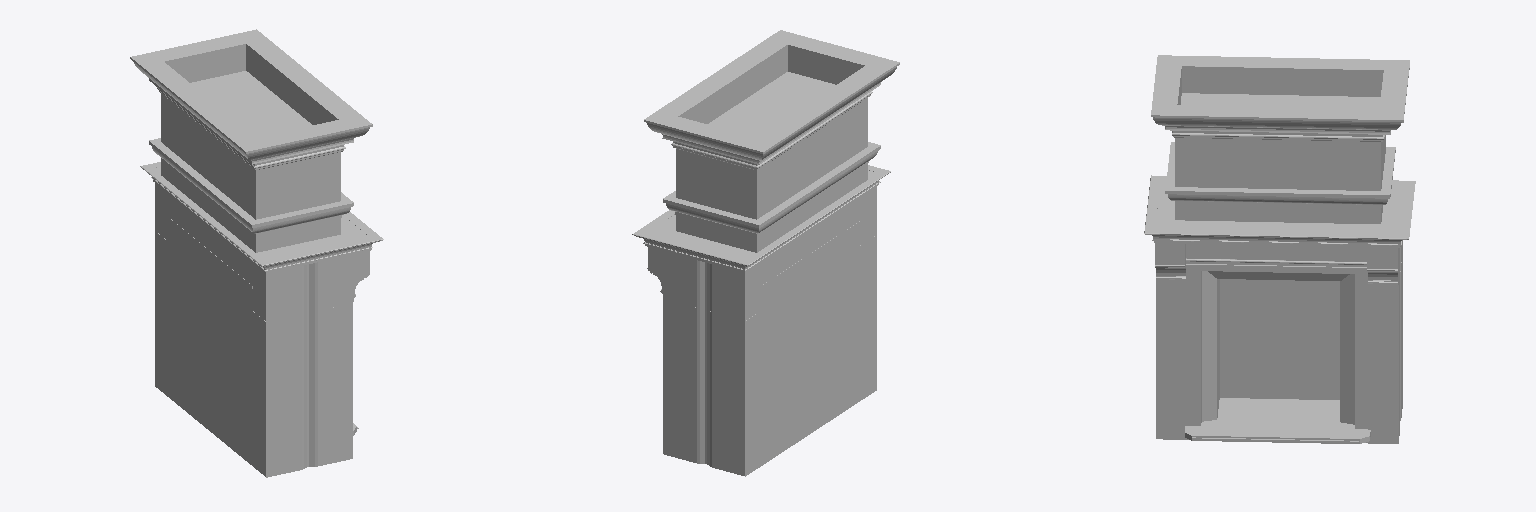
Rendered from Chimenea.obj.
3 renders of one model, left to right at view 1: azimuth 30°, elevation 25°; view 2: azimuth 150°, elevation 25°; view 3: azimuth 270°, elevation 25°, orthographic.
Visible parts, largest first — view 1: Box002; view 2: Box002; view 3: Box002.
Boxes of the visible parts, x1=… form: Box002: x1=130, y1=29, x2=383, y2=477; Box002: x1=632, y1=30, x2=899, y2=476; Box002: x1=1144, y1=55, x2=1415, y2=443.
Size of the model in its own units: 1.1 by 2.46 by 1.82.